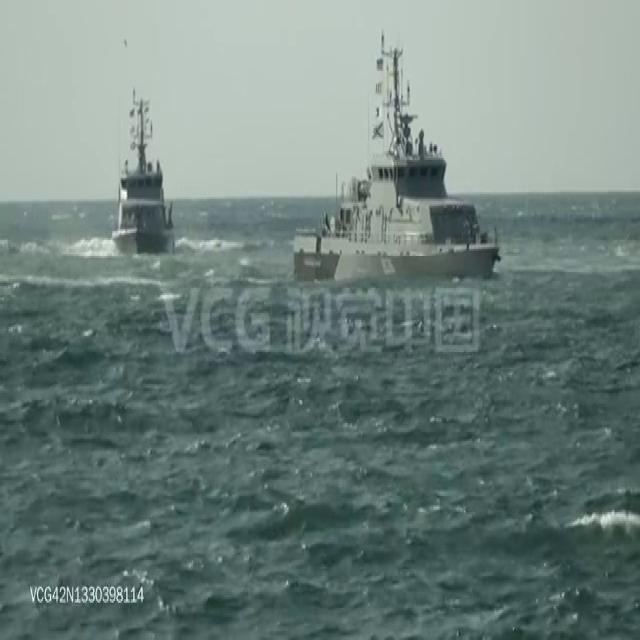houseboat: (288, 50, 497, 279), (108, 80, 177, 254)
